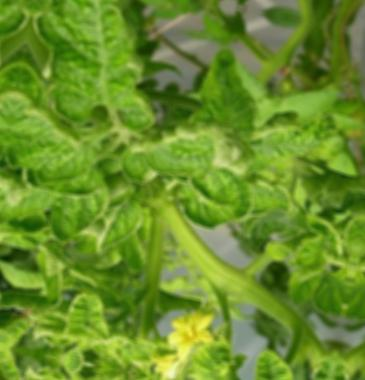Tomato leaf yellow virus: (18, 0, 176, 140), (174, 139, 306, 256), (1, 77, 105, 184), (117, 101, 227, 193), (19, 157, 123, 252), (84, 183, 158, 257), (59, 286, 126, 345), (242, 341, 306, 380), (293, 335, 338, 380), (0, 307, 39, 354)
